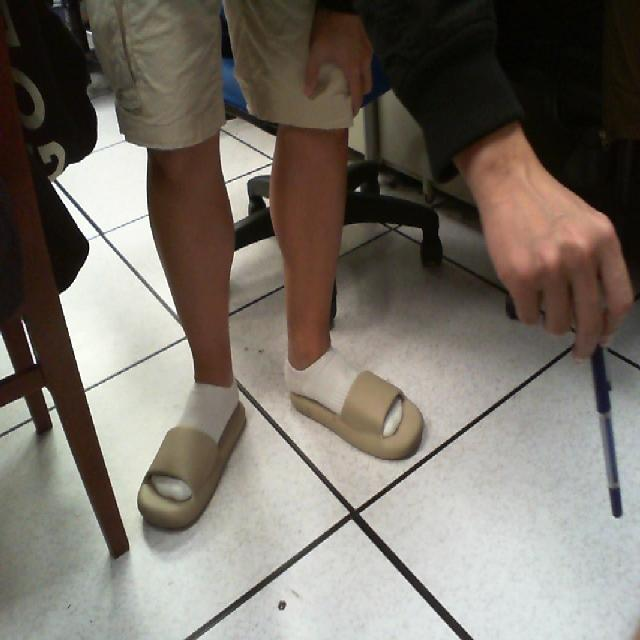Pen: (580, 334, 627, 540)
